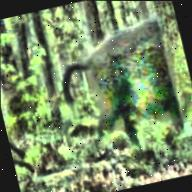boar: (47, 3, 192, 150)
